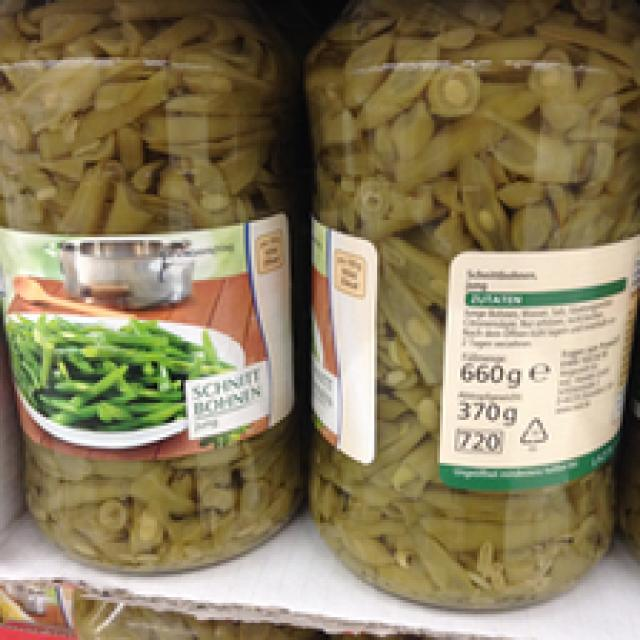groceries: (300, 3, 629, 617), (0, 0, 297, 577)
